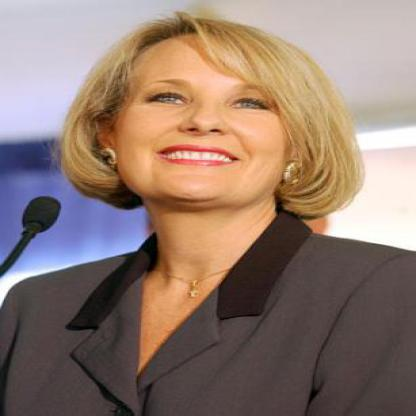face: (112, 21, 310, 213)
